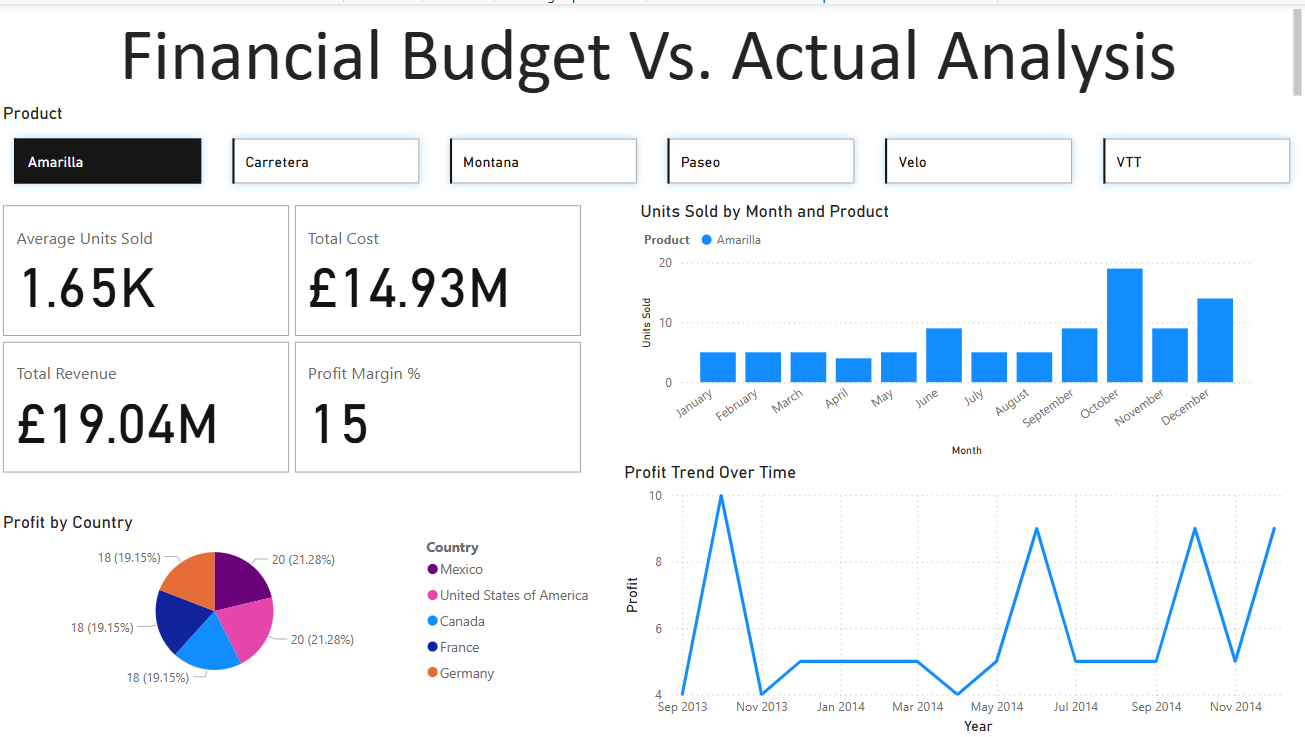

The dashboard page shown, as its layout file describes it:
{"tool":"powerbi","page":{"name":"Financial Budget Vs. Actual Analysis Dashboard","canvas":[1280,720],"ordinal":0},"visuals":[{"type":"lineChart","title":"Profit Trend Over Time","fields":{"Y":["CountNonNull(Financials. Profit )"],"Category":["Financials.Date.Variation.Date Hierarchy.Year","Financials.Date.Variation.Date Hierarchy.Quarter","Financials.Date.Variation.Date Hierarchy.Month","Financials.Date.Variation.Date Hierarchy.Day"]},"box":[608,448,672,272],"z":0},{"type":"pieChart","title":"Profit  by Country","fields":{"Y":["CountNonNull(Financials. Profit )"],"Category":["Financials.Country"]},"box":[0,496,592,176],"z":1000},{"type":"columnChart","title":"Units Sold  by Month and  Product ","fields":{"Series":["Financials. Product "],"Y":["CountNonNull(Financials. Units Sold )"],"Category":["Financials.Date.Variation.Date Hierarchy.Month"]},"box":[624,192,608,256],"z":2000},{"type":"advancedSlicerVisual","fields":{"Values":["Financials. Product "]},"box":[0,96,1280,96],"z":3000},{"type":"textbox","box":[0,0,1280,96],"z":4000},{"type":"cardVisual","fields":{"Data":["Financials.Average Units Sold","Financials.Total Cost","Financials.Total Revenue","Financials.Profit Margin"]},"box":[0,192,576,272],"z":5000}]}

Visuals, with their boxes in screenshot pixels (x1, y1, x2, y2), scaled from the page's 1280x720 canvas onto the 1305x737 screenshot:
"Profit Trend Over Time" lineChart: box(620, 459, 1304, 736)
"Profit  by Country" pieChart: box(0, 508, 604, 688)
"Units Sold  by Month and  Product " columnChart: box(636, 197, 1256, 459)
advancedSlicerVisual - Financials. Product : box(0, 98, 1304, 197)
textbox: box(0, 0, 1304, 98)
cardVisual - Financials.Average Units Sold x Financials.Total Cost: box(0, 197, 587, 475)
